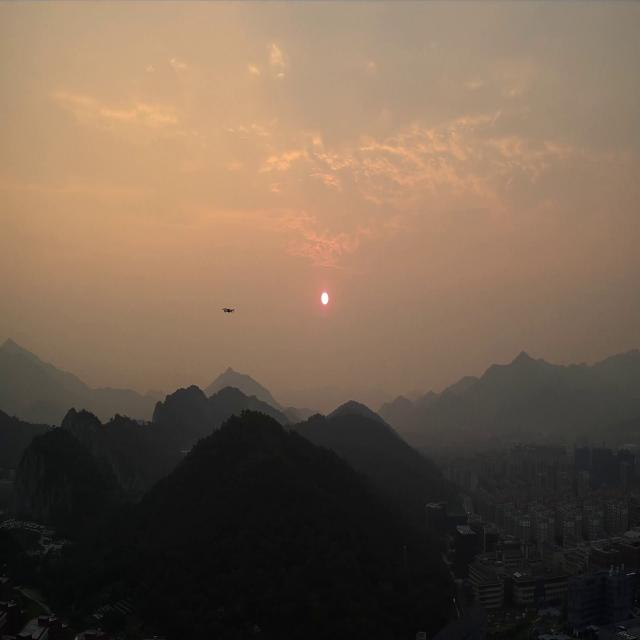UAV: (222, 306, 236, 314)
